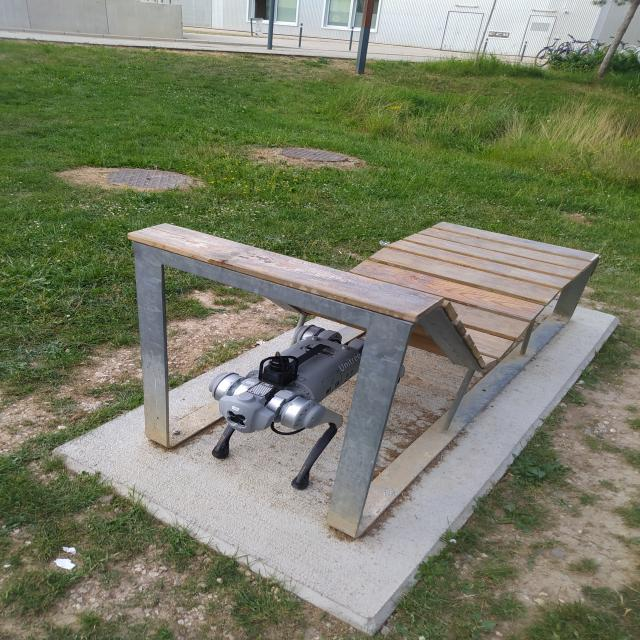unitree-go1-robot: (200, 326, 388, 485)
